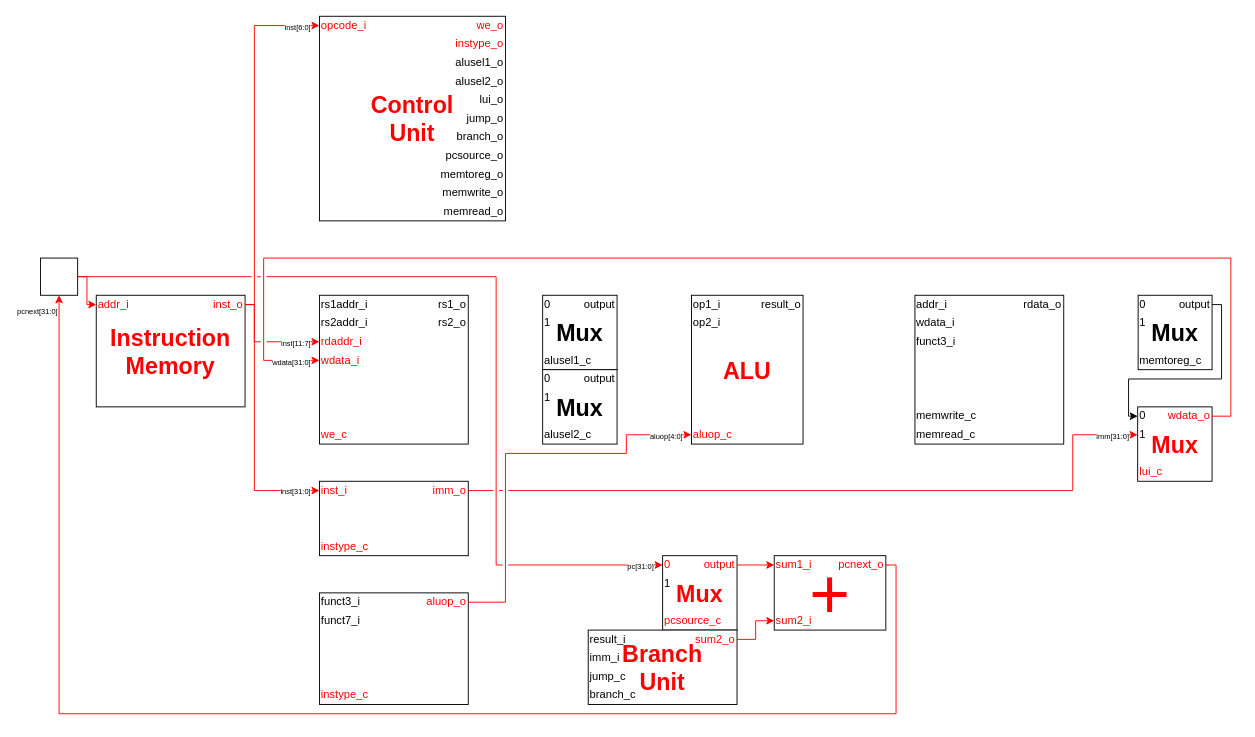
Image size: 1255x737. Some labels were removed from this diagram. Here are the shapes that lost their labels. From the top down, the box of each, then its label:
(40, 257, 78, 295): PC
(319, 294, 468, 444): Reg File
(914, 294, 1064, 444): Data Memory
(319, 480, 468, 556): Immediate Generator
(319, 592, 468, 704): ALU Control
